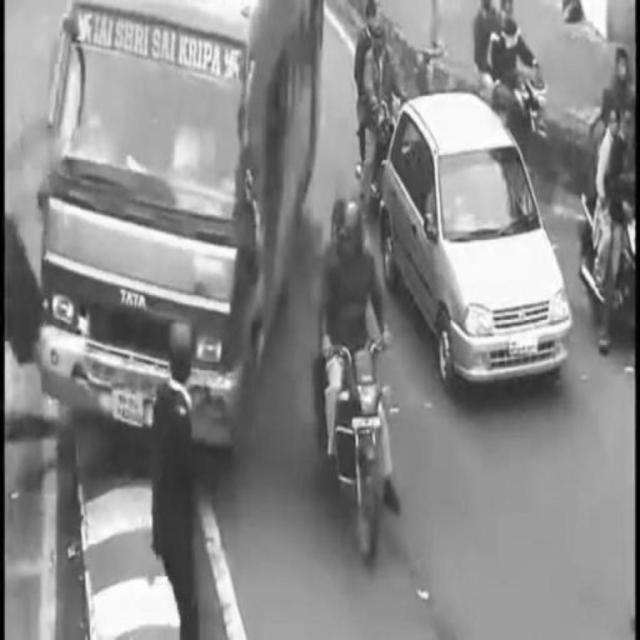accident: (34, 3, 310, 451)
person: (124, 314, 222, 632)
vehicle: (379, 102, 577, 386), (319, 202, 400, 563), (351, 1, 397, 208)
